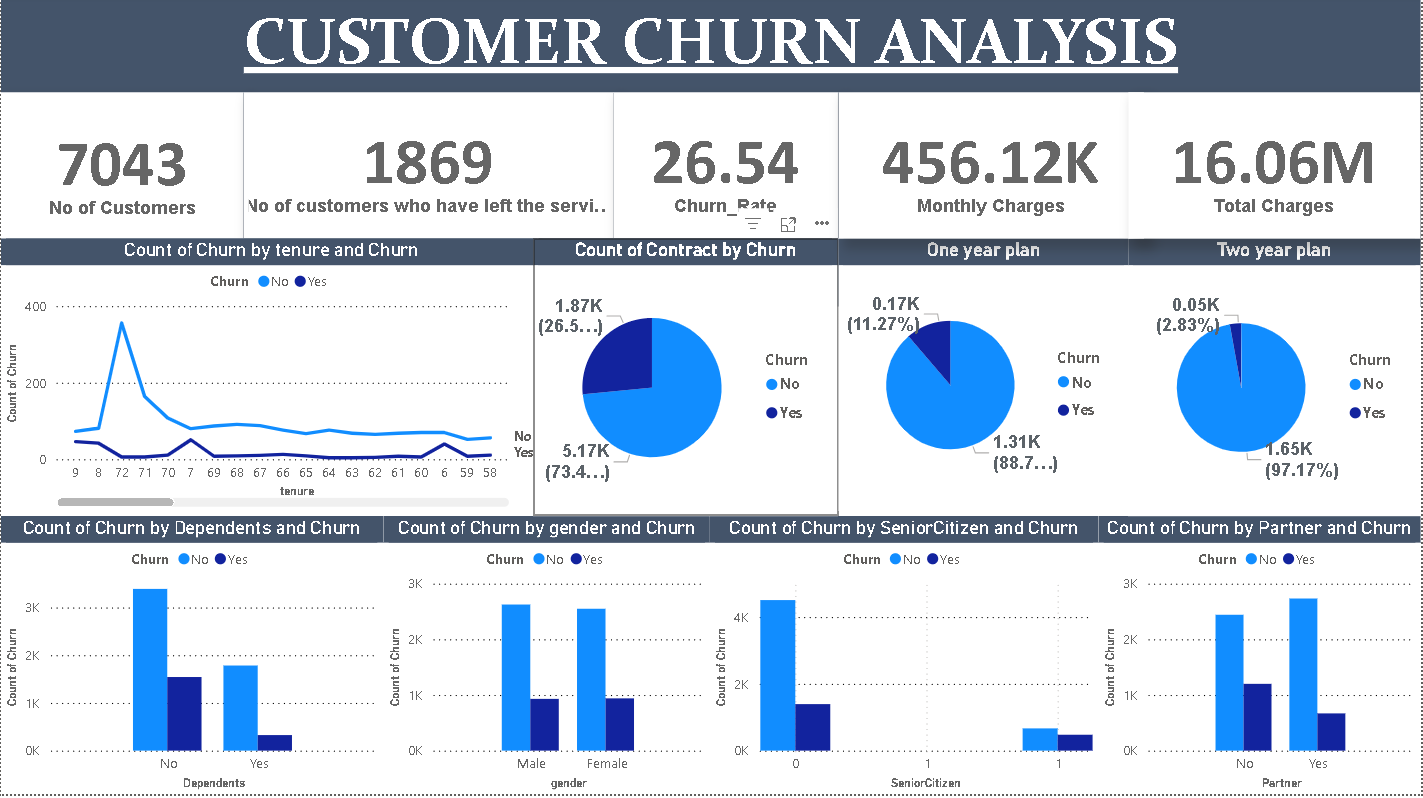

Layout of this report page (visuals, bound fields, positions):
{"tool":"powerbi","page":{"name":"Page 1","canvas":[1280,720],"ordinal":0},"visuals":[{"type":"textbox","box":[0,0,1280.3,280],"z":0},{"type":"card","fields":{"Values":["CountNonNull(Cutomer_churn_analysis.Customer ID)"]},"box":[0,86.9,218.6,134.8],"z":1000},{"type":"card","fields":{"Values":["CountNonNull(Cutomer_churn_analysis.Churn)"]},"box":[218.6,86.9,333.9,131.8],"z":2000},{"type":"card","fields":{"Values":["Cutomer_churn_analysis.Churn_Rate"]},"box":[552.6,86.9,202.2,131.8],"z":3000},{"type":"clusteredColumnChart","fields":{"Series":["Cutomer_churn_analysis.Churn"],"Category":["Cutomer_churn_analysis.Dependents"],"Y":["CountNonNull(Cutomer_churn_analysis.Churn)"]},"box":[0,468.7,344.4,251.6],"z":4000},{"type":"clusteredColumnChart","fields":{"Series":["Cutomer_churn_analysis.Churn"],"Y":["CountNonNull(Cutomer_churn_analysis.Churn)"],"Category":["Cutomer_churn_analysis.gender"]},"box":[344.4,468.7,295,251.6],"z":5000},{"type":"clusteredColumnChart","fields":{"Series":["Cutomer_churn_analysis.Churn"],"Y":["CountNonNull(Cutomer_churn_analysis.Churn)"],"Category":["Cutomer_churn_analysis.Partner"]},"box":[989.8,468.7,290.5,251.6],"z":6000},{"type":"lineChart","fields":{"Series":["Cutomer_churn_analysis.Churn"],"Category":["Cutomer_churn_analysis.tenure"],"Y":["CountNonNull(Cutomer_churn_analysis.Churn)"]},"box":[0,218.6,488.2,247.1],"z":7000},{"type":"clusteredColumnChart","fields":{"Series":["Cutomer_churn_analysis.Churn"],"Y":["CountNonNull(Cutomer_churn_analysis.Churn)"],"Category":["Cutomer_churn_analysis.SeniorCitizen"]},"box":[639.4,468.7,350.4,251.6],"z":8000},{"type":"pieChart","fields":{"Category":["Cutomer_churn_analysis.Churn"],"Y":["CountNonNull(Cutomer_churn_analysis.Contract)"]},"box":[480.7,218.6,274,250.1],"z":9000},{"type":"pieChart","title":"One year plan","fields":{"Category":["Cutomer_churn_analysis.Churn"],"Y":["CountNonNull(Cutomer_churn_analysis.Contract)"]},"box":[754.7,218.6,262.1,245.6],"z":10000},{"type":"pieChart","title":"Two year plan","fields":{"Category":["Cutomer_churn_analysis.Churn"],"Y":["CountNonNull(Cutomer_churn_analysis.Contract)"]},"box":[1016.8,218.6,263.5,250.1],"z":11000},{"type":"card","fields":{"Values":["Sum(Cutomer_churn_analysis.MonthlyCharges)"]},"box":[754.7,86.9,275.5,131.8],"z":11001},{"type":"card","fields":{"Values":["Sum(Cutomer_churn_analysis.TotalCharges)"]},"box":[1016.8,86.9,263.5,131.8],"z":11002}]}

Visuals, with their boxes in screenshot pixels (x1, y1, x2, y2), scaled from the page's 1280x720 canvas onto the 1423x798 screenshot:
textbox: {"x1": 0, "y1": 0, "x2": 1422, "y2": 310}
card - CountNonNull(Cutomer_churn_analysis.Customer ID): {"x1": 0, "y1": 96, "x2": 243, "y2": 246}
card - CountNonNull(Cutomer_churn_analysis.Churn): {"x1": 243, "y1": 96, "x2": 614, "y2": 242}
card - Cutomer_churn_analysis.Churn_Rate: {"x1": 614, "y1": 96, "x2": 839, "y2": 242}
clusteredColumnChart - Cutomer_churn_analysis.Churn x Cutomer_churn_analysis.Dependents: {"x1": 0, "y1": 519, "x2": 383, "y2": 797}
clusteredColumnChart - Cutomer_churn_analysis.Churn x CountNonNull(Cutomer_churn_analysis.Churn): {"x1": 383, "y1": 519, "x2": 711, "y2": 797}
clusteredColumnChart - Cutomer_churn_analysis.Churn x CountNonNull(Cutomer_churn_analysis.Churn): {"x1": 1100, "y1": 519, "x2": 1422, "y2": 797}
lineChart - Cutomer_churn_analysis.Churn x Cutomer_churn_analysis.tenure: {"x1": 0, "y1": 242, "x2": 543, "y2": 516}
clusteredColumnChart - Cutomer_churn_analysis.Churn x CountNonNull(Cutomer_churn_analysis.Churn): {"x1": 711, "y1": 519, "x2": 1100, "y2": 797}
pieChart - Cutomer_churn_analysis.Churn x CountNonNull(Cutomer_churn_analysis.Contract): {"x1": 534, "y1": 242, "x2": 839, "y2": 519}
"One year plan" pieChart: {"x1": 839, "y1": 242, "x2": 1130, "y2": 514}
"Two year plan" pieChart: {"x1": 1130, "y1": 242, "x2": 1422, "y2": 519}
card - Sum(Cutomer_churn_analysis.MonthlyCharges): {"x1": 839, "y1": 96, "x2": 1145, "y2": 242}
card - Sum(Cutomer_churn_analysis.TotalCharges): {"x1": 1130, "y1": 96, "x2": 1422, "y2": 242}
